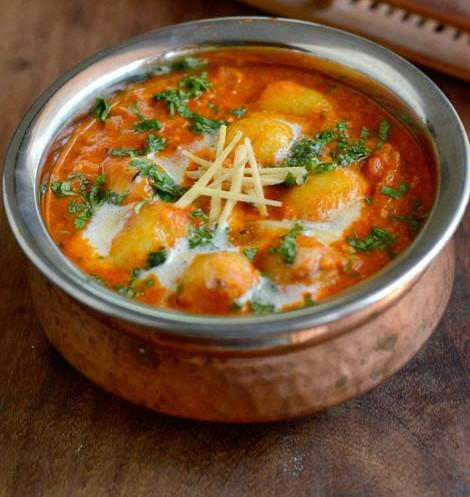DumAloo: (45, 62, 441, 317)
